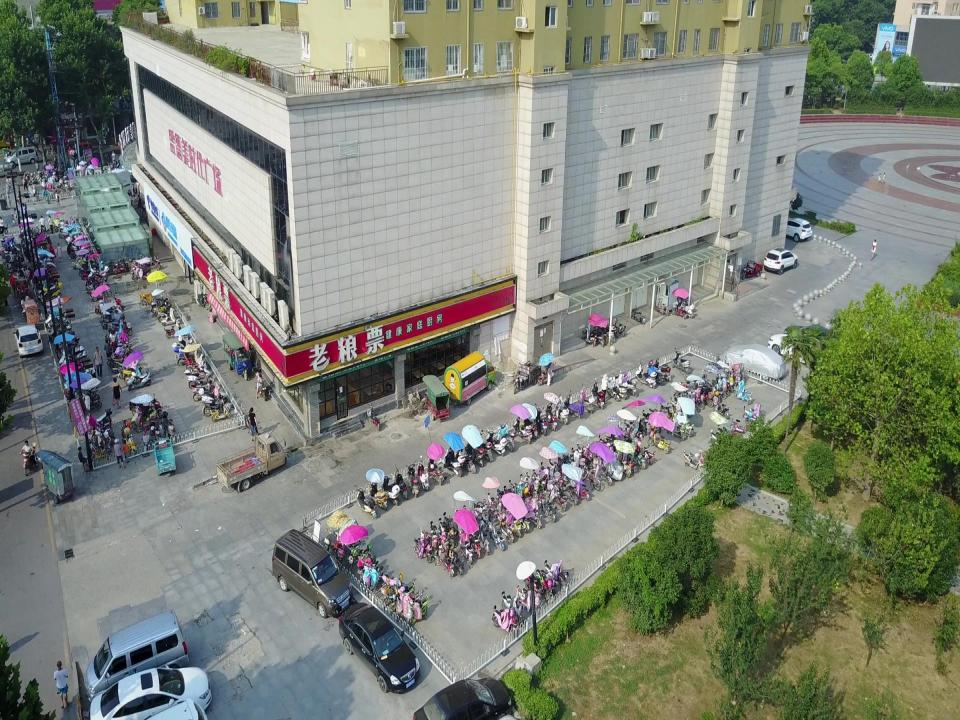car: (339, 603, 421, 695), (84, 668, 214, 718), (413, 679, 513, 720), (13, 324, 43, 357), (764, 249, 798, 273), (779, 218, 811, 240)
truck: (216, 435, 288, 494)
van: (84, 609, 191, 704), (271, 528, 351, 618), (444, 352, 496, 410), (5, 147, 39, 166)
